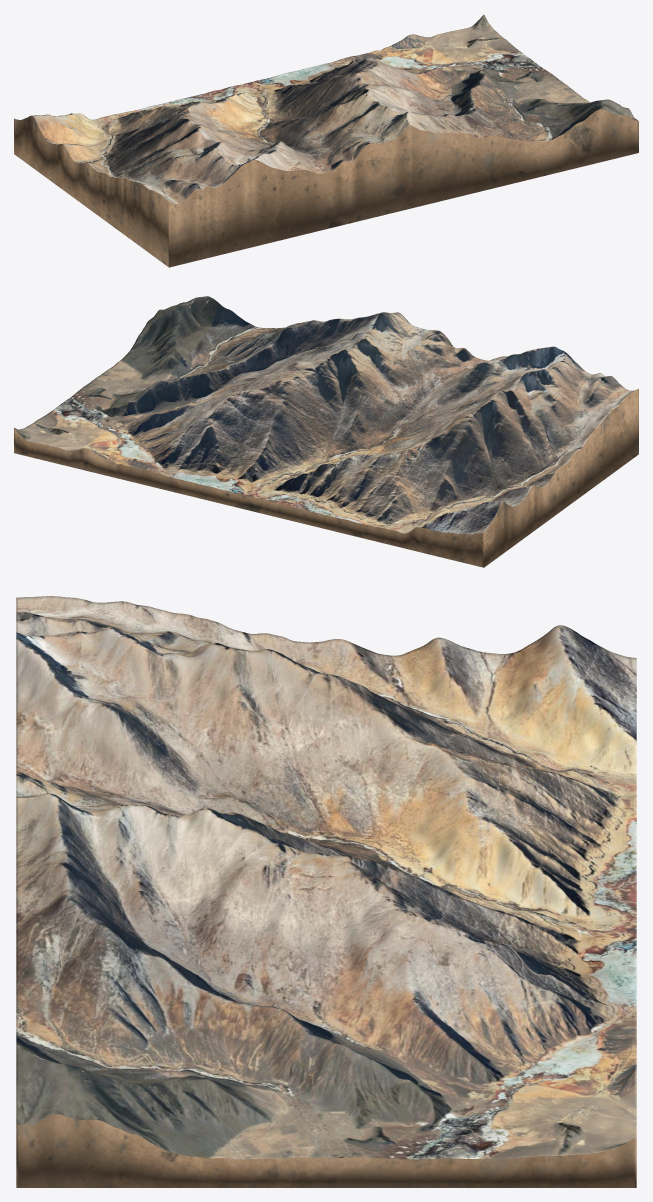
The model's file is terrain3.glb.
3 views of the same model, one above another, from view 1: azimuth 30°, elevation 25°; view 2: azimuth 150°, elevation 25°; view 3: azimuth 270°, elevation 25° (orthographic). The views are drawn at different scales.
Visible parts, largest first — view 1: EXPORT_GOOGLE_SAT_WM; view 2: EXPORT_GOOGLE_SAT_WM; view 3: EXPORT_GOOGLE_SAT_WM.
Boxes of the visible parts, <box> form: EXPORT_GOOGLE_SAT_WM: <box>14,15,638,267</box>; EXPORT_GOOGLE_SAT_WM: <box>14,296,638,567</box>; EXPORT_GOOGLE_SAT_WM: <box>16,596,636,1187</box>.
Size of the model in its own units: 17122 by 3061 by 9784.
Materials: 2 (2 with a texture image).
